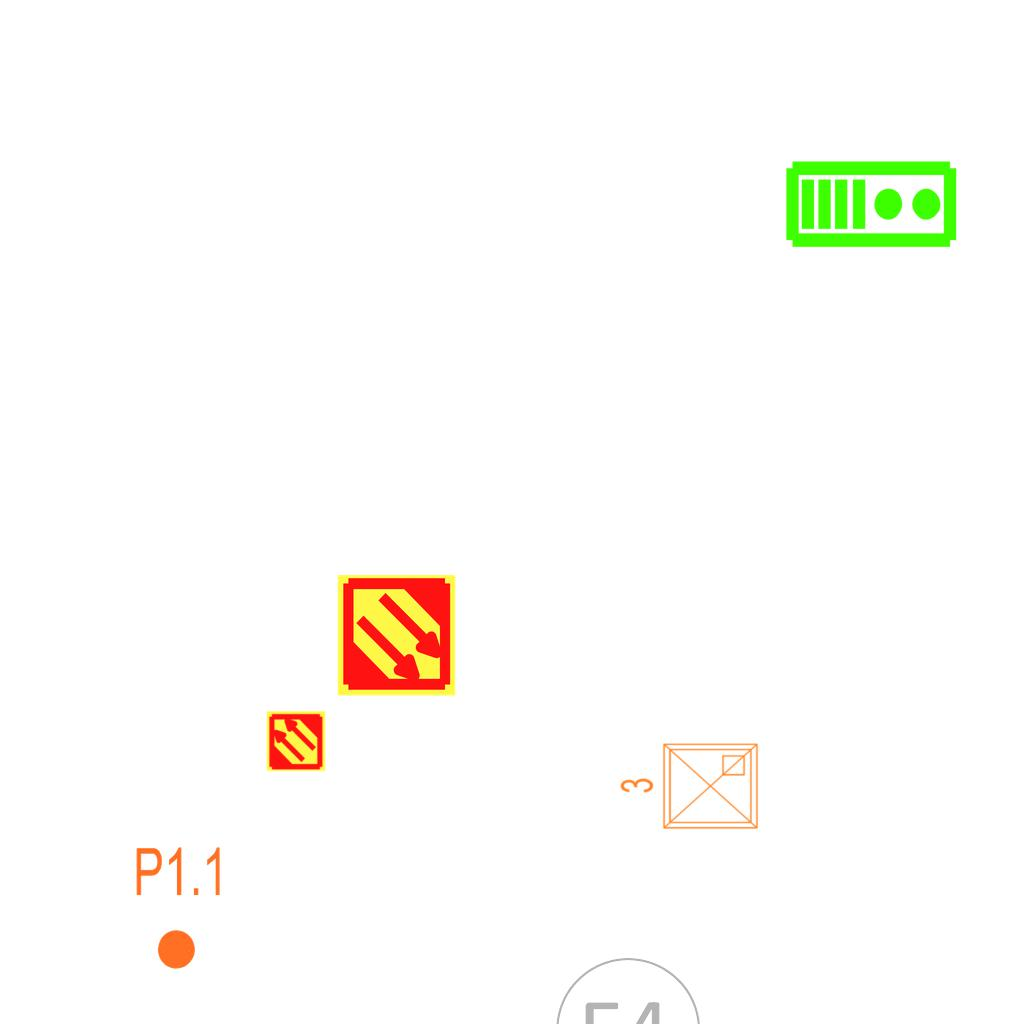ASR_Ansaugrauchmelder: (334, 573, 459, 698), (265, 710, 327, 772)
Downlight_LED_Einbauleuchten_Flur: (133, 844, 226, 972)
Einbaudownlights_LED_Konferenzraeume: (615, 736, 765, 840)
Gegensprechanlage_mit_Video: (784, 155, 960, 250)
